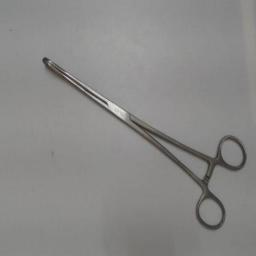Sponge Forceps: (34, 54, 250, 236)
